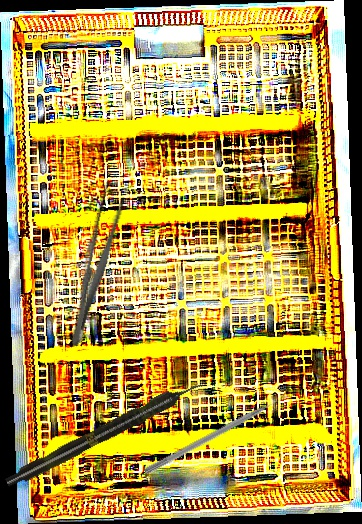Dressing Forceps: (61, 177, 131, 351)
Handpiece: (2, 375, 207, 492)
Pusher: (143, 392, 291, 477)
